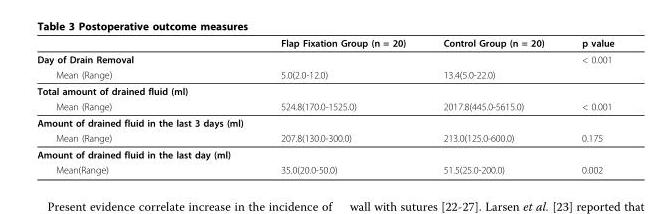table: (36, 36, 613, 175)
table column: (36, 36, 261, 175), (261, 36, 423, 175), (423, 36, 562, 175), (562, 36, 613, 175)
table column header: (36, 36, 613, 50)
table projected row header: (36, 82, 613, 98), (36, 114, 613, 130), (36, 145, 613, 161)
table row: (36, 50, 613, 66), (36, 66, 613, 82), (36, 82, 613, 98), (36, 98, 613, 114), (36, 114, 613, 130), (36, 145, 613, 161), (36, 130, 613, 145), (36, 36, 613, 50), (36, 161, 613, 175)
